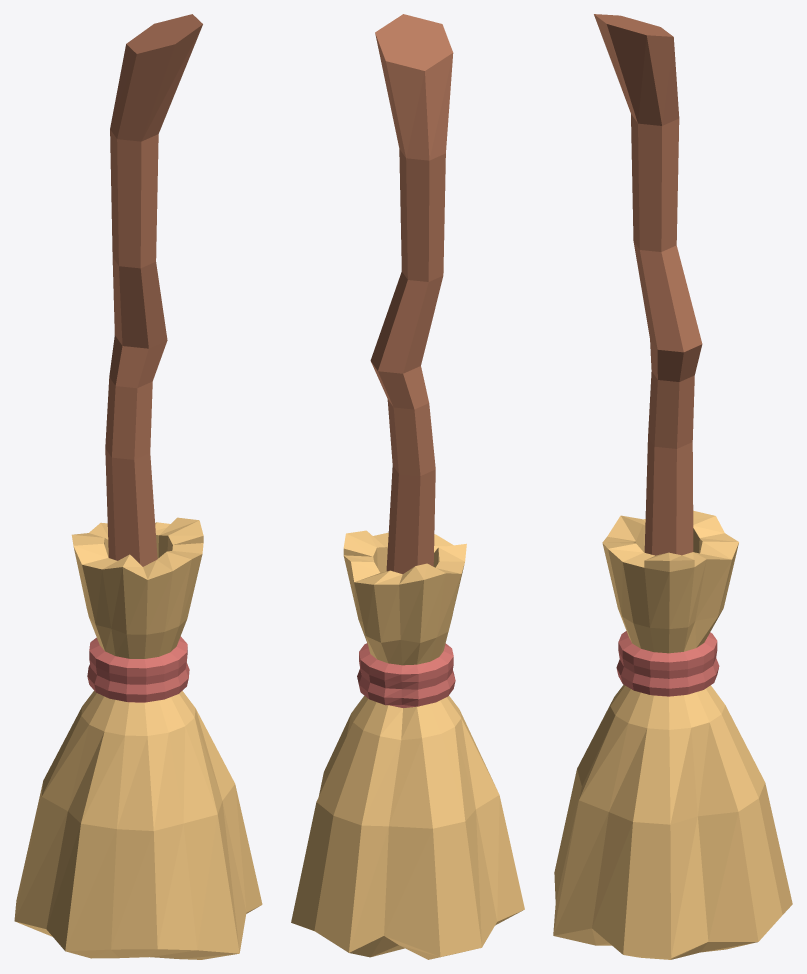
The model's file is broom_attack.fbx.
3 views of the same model, side by side, from view 1: azimuth 30°, elevation 25°; view 2: azimuth 150°, elevation 25°; view 3: azimuth 270°, elevation 25° (orthographic). The views are drawn at different scales.
Parts seen in each view (by area): view 1: Broom_1; view 2: Broom_1; view 3: Broom_1.
Boxes of the visible parts, x1,y1,x2,y2 form: Broom_1: [14, 14, 262, 959]; Broom_1: [291, 14, 524, 959]; Broom_1: [553, 14, 792, 959].
Bounding box in the file's own units: 107 × 458 × 106.
